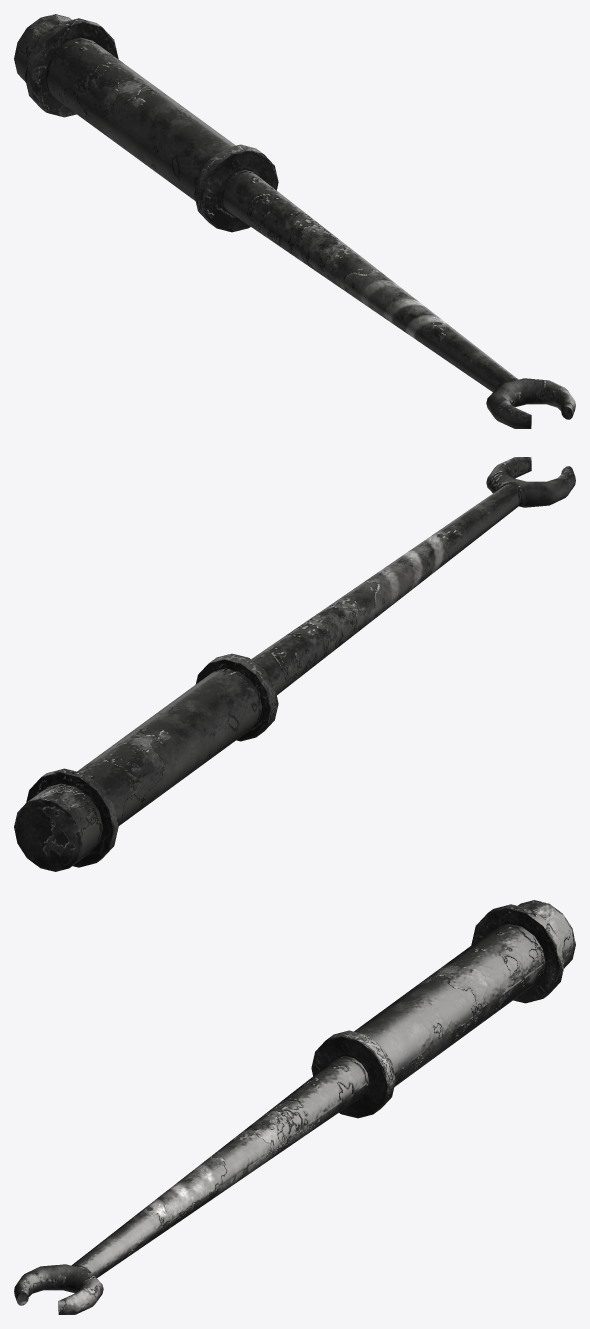
File: Stun_Gun.fbx
3 renders of one model, top to bottom at view 1: azimuth 30°, elevation 25°; view 2: azimuth 150°, elevation 25°; view 3: azimuth 330°, elevation 25°, orthographic.
Parts seen in each view (by area): view 1: Stun_Gun; view 2: Stun_Gun; view 3: Stun_Gun.
Part boxes in pixels (x1,y1,x2,y2): Stun_Gun: (14,14,575,428); Stun_Gun: (14,457,575,871); Stun_Gun: (14,900,575,1314).
Bounding box in the file's own units: 4.85 × 4.73 × 47.79.
1 material, 1 textured.
